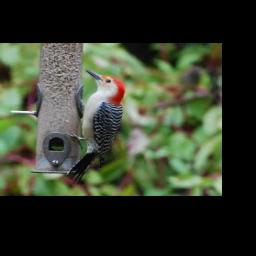Woodpecker: (63, 69, 126, 184)
